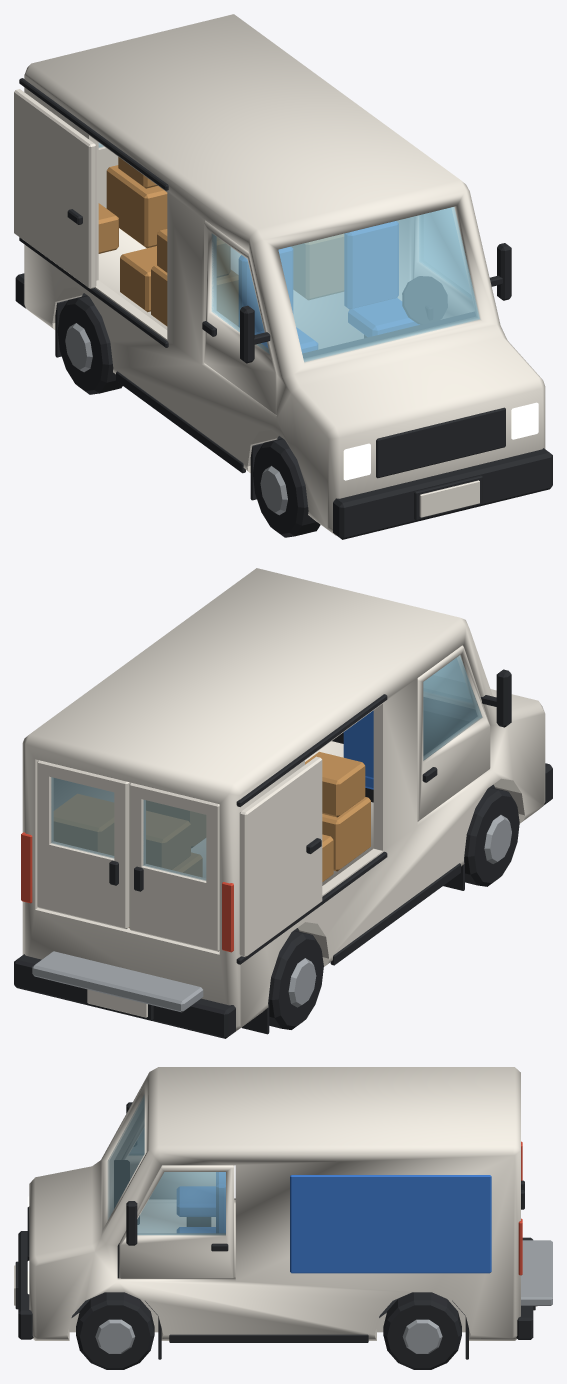
The model's file is low-poly-delivery-van.glb.
The picture shows the model from 3 angles, top to bottom: view 1: azimuth 30°, elevation 25°; view 2: azimuth 150°, elevation 25°; view 3: azimuth 270°, elevation 25°; orthographic projection. The views are drawn at different scales.
Parts seen in each view (by area): view 1: Body, Windshield, Door_Sliding, Bumper_Front, Door_Passenger, Grille, DriverSeat_Back, Wheel_FR, Parcel_04, Wheel_RR, Door_Passenger_Glass, Parcel_08 (+22 smaller); view 2: Body, Door_Sliding, Door_RearLeft, Door_RearRight, Door_Passenger, RearStep, Door_RearRight_Glass, Door_RearLeft_Glass, Door_Passenger_Glass, Bumper_Rear, Wheel_RR, Wheel_FR (+17 smaller); view 3: Body, SidePanel, Door_Driver, Door_Driver_Glass, Wheel_FL, Wheel_RL, Windshield, RearStep, SideSkirt_L, Door_Passenger, Bumper_Front, PassengerSeat (+6 smaller).
Part boxes in pixels (x1=…): Body: x1=24, y1=14, x2=545, y2=535; Windshield: x1=278, y1=207, x2=479, y2=362; Door_Sliding: x1=14, y1=89, x2=96, y2=288; Bumper_Front: x1=333, y1=448, x2=552, y2=539; Door_Passenger: x1=204, y1=220, x2=276, y2=415; Grille: x1=376, y1=407, x2=505, y2=478; DriverSeat_Back: x1=344, y1=221, x2=398, y2=309; Wheel_FR: x1=253, y1=438, x2=320, y2=537; Parcel_04: x1=106, y1=165, x2=167, y2=248; Wheel_RR: x1=57, y1=295, x2=122, y2=394; Door_Passenger_Glass: x1=211, y1=233, x2=269, y2=354; Parcel_08: x1=291, y1=234, x2=343, y2=299; Body: x1=22, y1=568, x2=545, y2=1032; Door_Sliding: x1=239, y1=756, x2=322, y2=957; Door_RearLeft: x1=37, y1=760, x2=130, y2=928; Door_RearRight: x1=129, y1=783, x2=219, y2=951; Door_Passenger: x1=417, y1=645, x2=490, y2=821; RearStep: x1=32, y1=951, x2=203, y2=1012; Door_RearRight_Glass: x1=143, y1=800, x2=206, y2=880; Door_RearLeft_Glass: x1=51, y1=777, x2=114, y2=858; Door_Passenger_Glass: x1=423, y1=655, x2=482, y2=760; Bumper_Rear: x1=14, y1=954, x2=235, y2=1038; Wheel_RR: x1=269, y1=930, x2=323, y2=1029; Wheel_FR: x1=465, y1=787, x2=519, y2=886; Body: x1=29, y1=1067, x2=520, y2=1340; SidePanel: x1=290, y1=1175, x2=491, y2=1273; Door_Driver: x1=119, y1=1165, x2=234, y2=1278; Door_Driver_Glass: x1=137, y1=1172, x2=225, y2=1235; Wheel_FL: x1=76, y1=1292, x2=154, y2=1369; Wheel_RL: x1=383, y1=1292, x2=461, y2=1369; Windshield: x1=107, y1=1094, x2=144, y2=1219; RearStep: x1=521, y1=1240, x2=552, y2=1305; SideSkirt_L: x1=169, y1=1334, x2=368, y2=1342; Door_Passenger: x1=121, y1=1118, x2=215, y2=1199; Bumper_Front: x1=18, y1=1231, x2=33, y2=1339; PassengerSeat: x1=177, y1=1186, x2=215, y2=1216.
Bounding box in the file's own units: 9.9 × 10 × 21.92.
